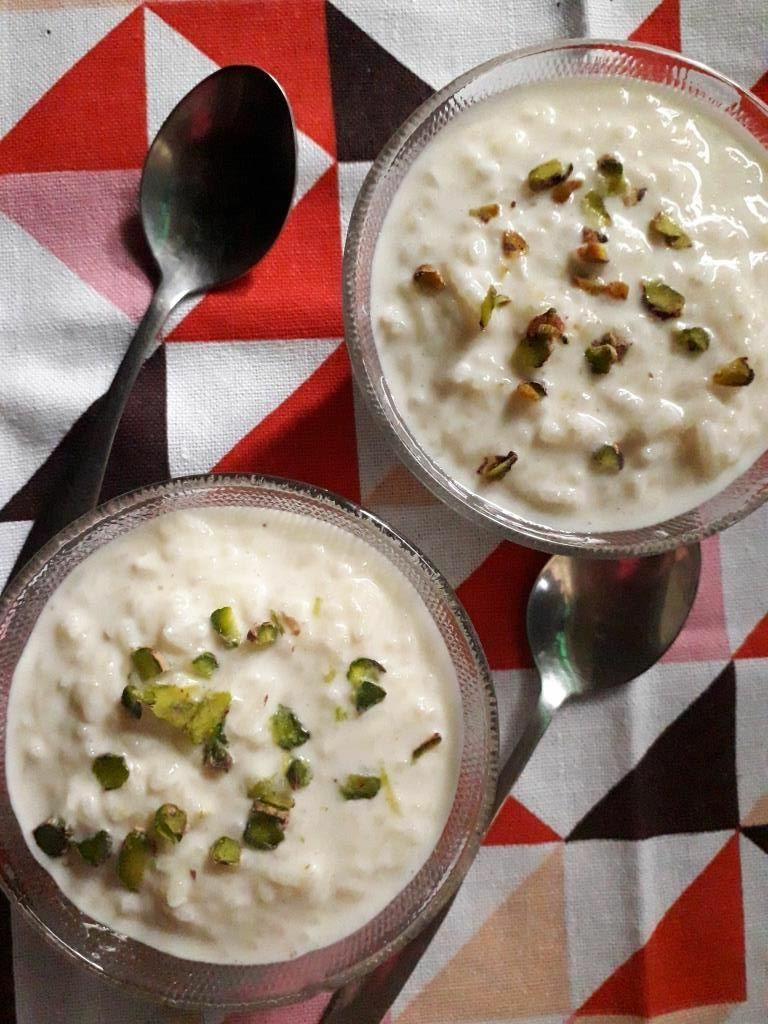Kheer: (8, 508, 473, 966), (371, 77, 758, 530)
